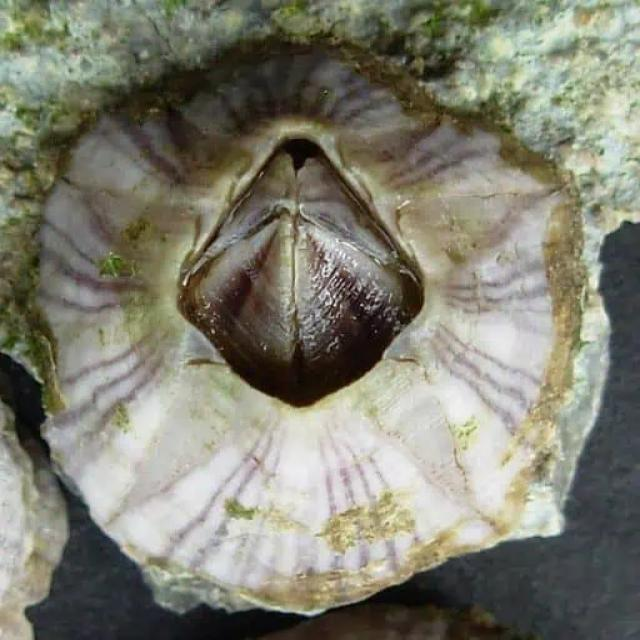barnacles: (21, 39, 606, 610)
